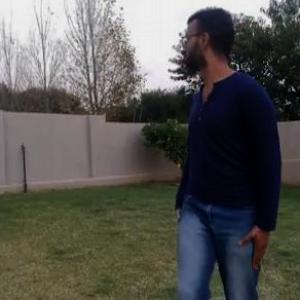follow: (169, 1, 286, 299)
